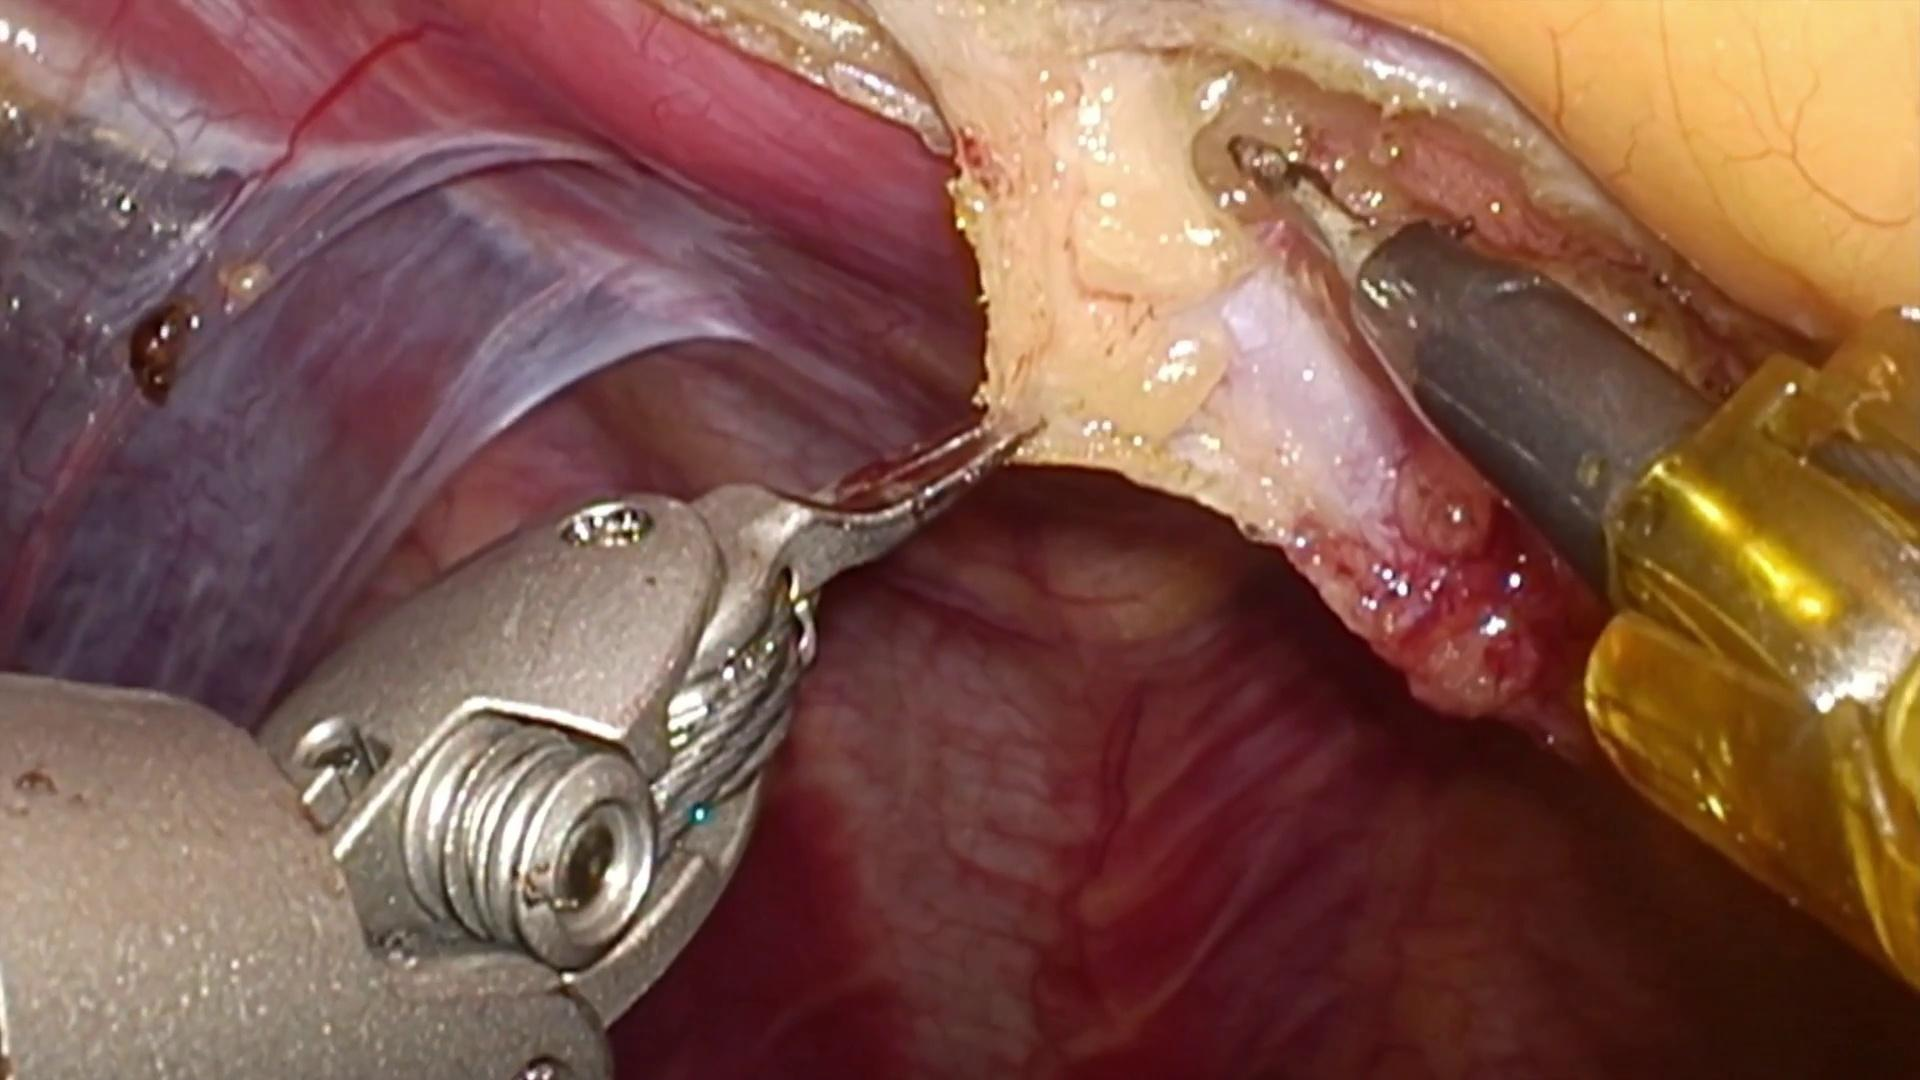Cautery_Spatula: (1232, 138, 1720, 626)
Debakey: (676, 375, 1035, 629)
